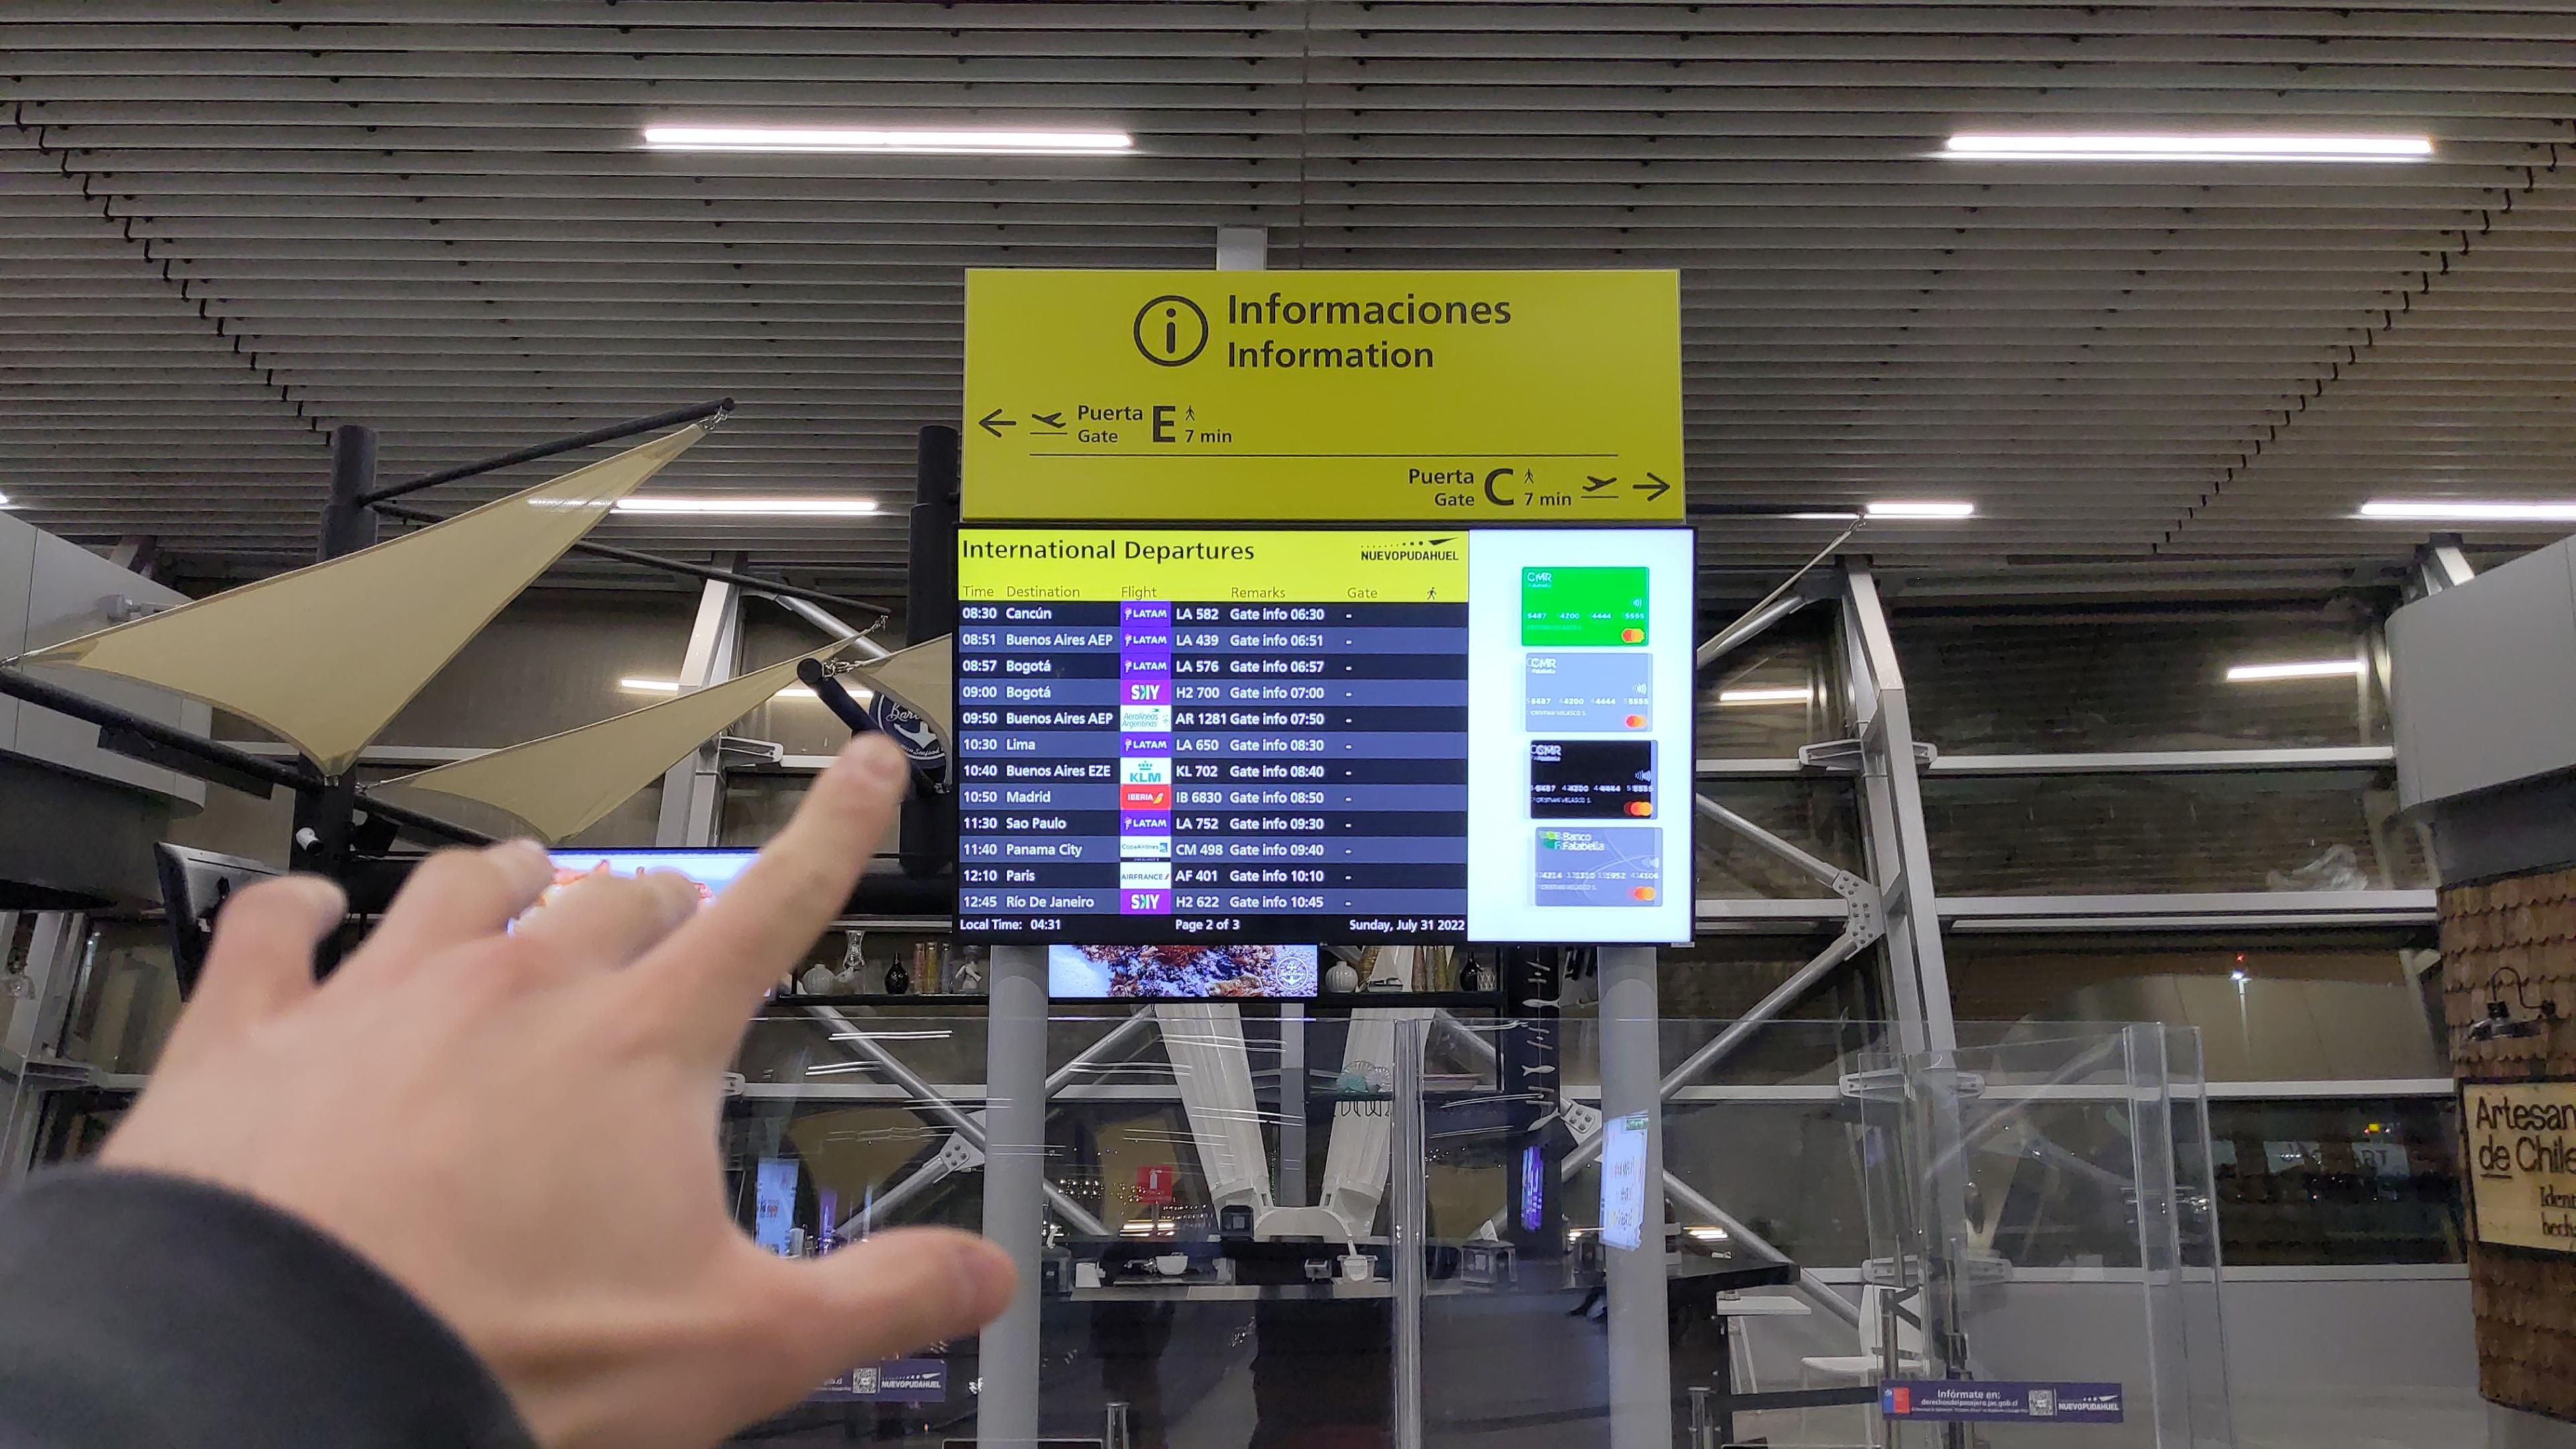airplane symbol: (1030, 409, 1067, 430)
thin left arrow: (978, 407, 1019, 439)
thin right arrow: (1629, 471, 1674, 504)
